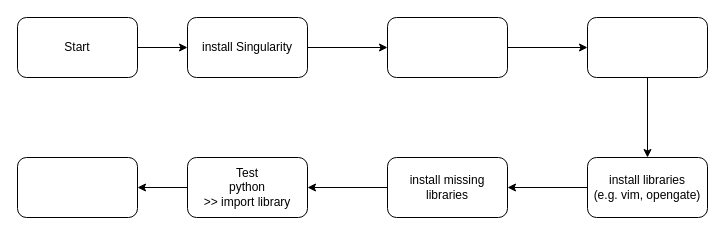
The diagram is 725 pixels wide and 235 high, and some of its shapes have lost their labels. The box of each missing label's shape, as (x1, y1, x2, y2) in pixels:
Done: (16, 156, 138, 218)
pull a container (Anaconda3): (386, 16, 508, 78)
run (writable): (586, 16, 708, 78)
